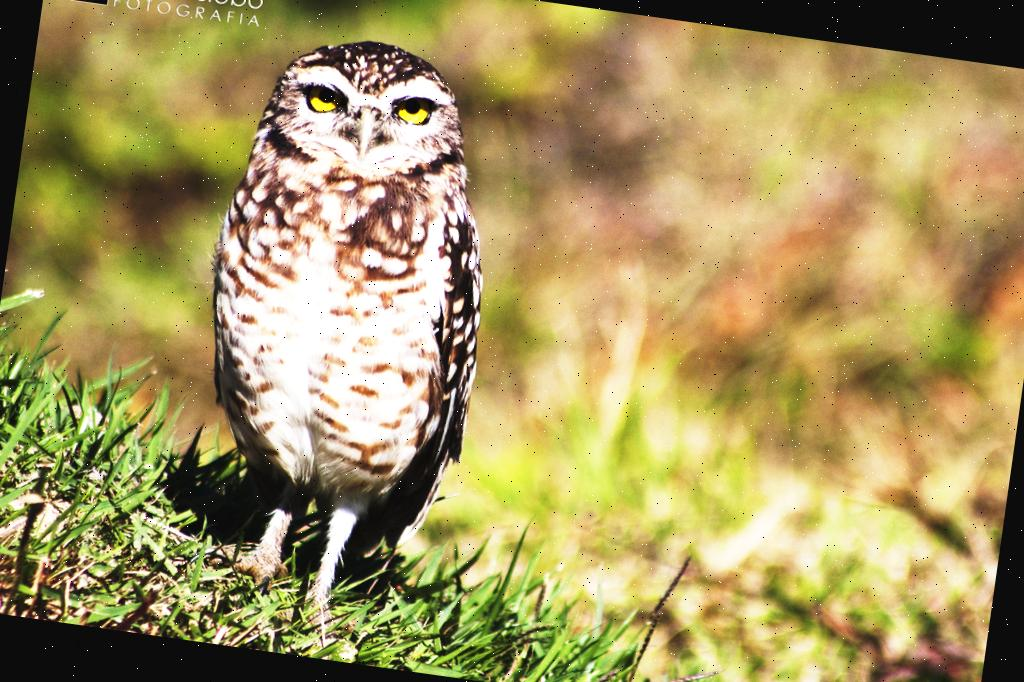Owl: (164, 22, 516, 650)
